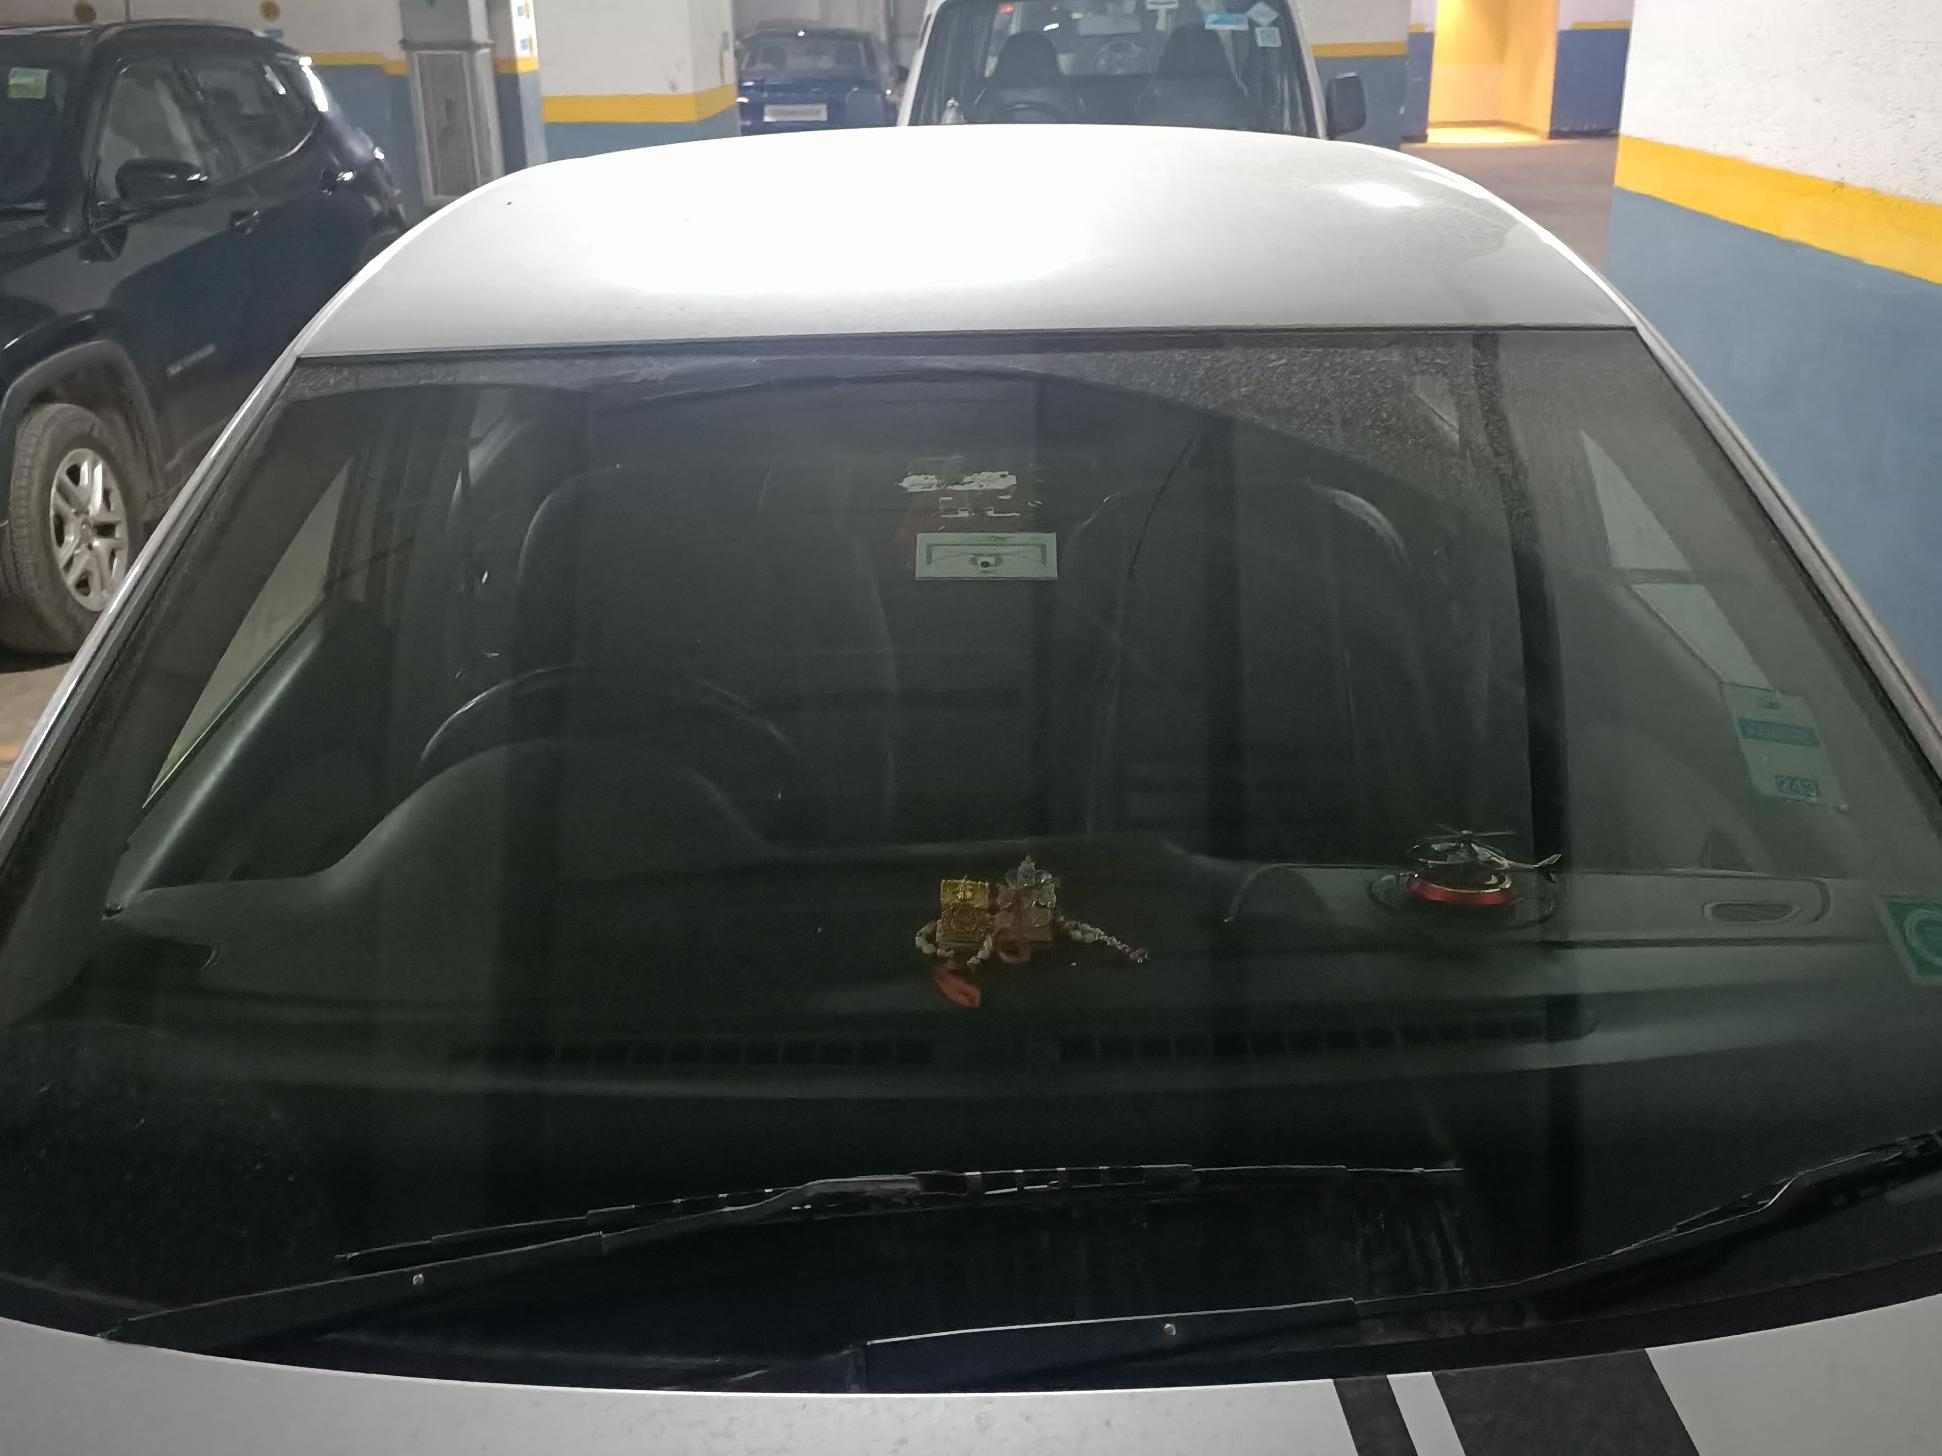FastTag: (884, 506, 1095, 604)
not a FastTag: (1725, 665, 1853, 827), (1872, 882, 1942, 996)
